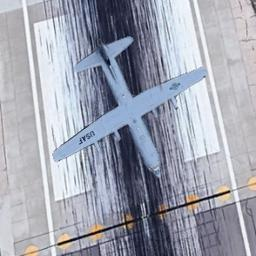Airplane: (51, 35, 208, 178)
